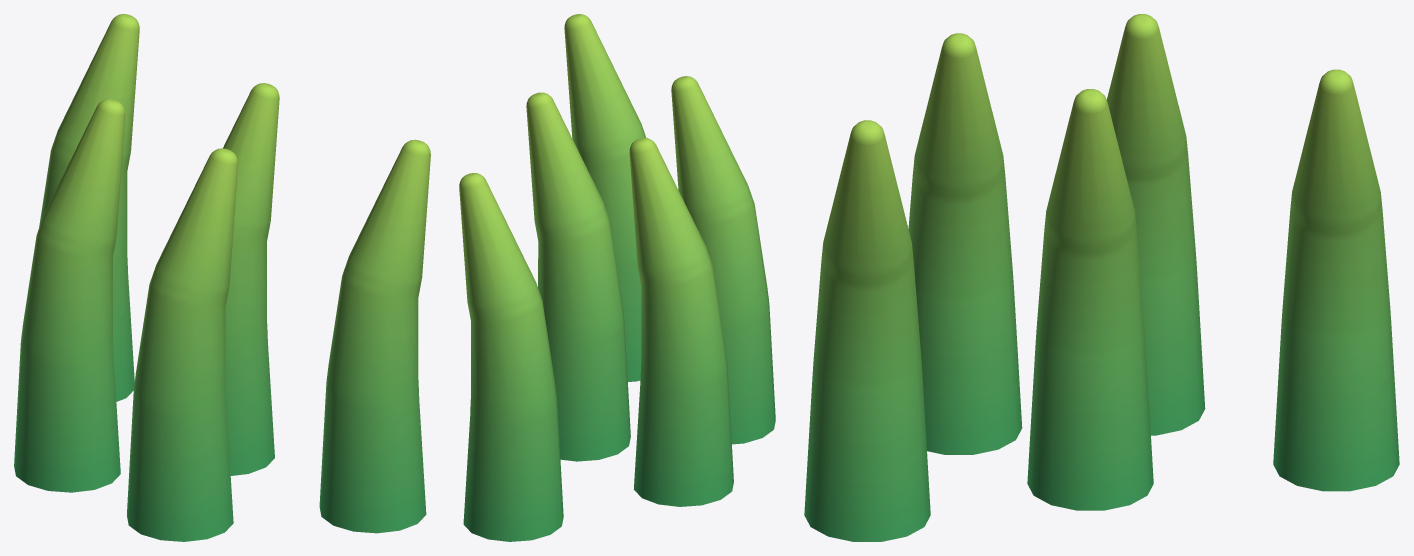
File: grass.fbx
3 views of the same model, side by side, from view 1: azimuth 30°, elevation 25°; view 2: azimuth 150°, elevation 25°; view 3: azimuth 270°, elevation 25° (orthographic). The views are drawn at different scales.
Parts seen in each view (by area): view 1: Grass; view 2: Grass; view 3: Grass.
Part boxes in pixels (x1,y1,x2,y2): Grass: [14, 14, 430, 541]; Grass: [459, 14, 775, 541]; Grass: [804, 14, 1399, 541].
Bounding box in the file's own units: 1.84 × 2.19 × 2.82.
1 material, 1 textured.
